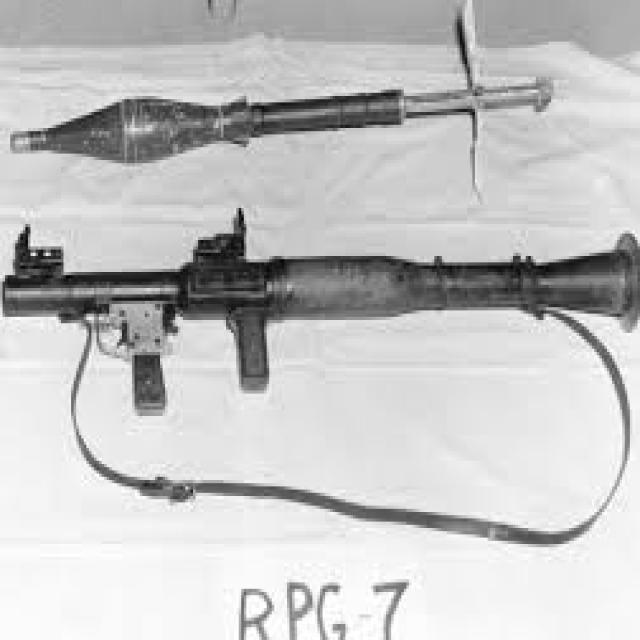Gun: (0, 64, 640, 390)
